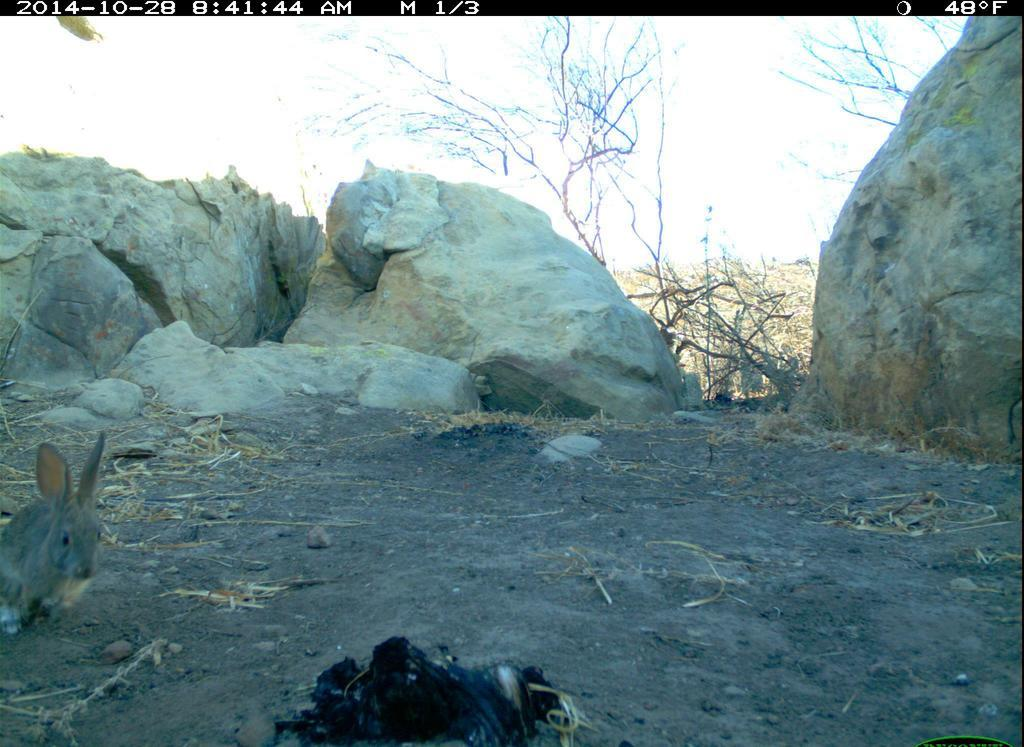rabbit: (3, 436, 121, 639)
